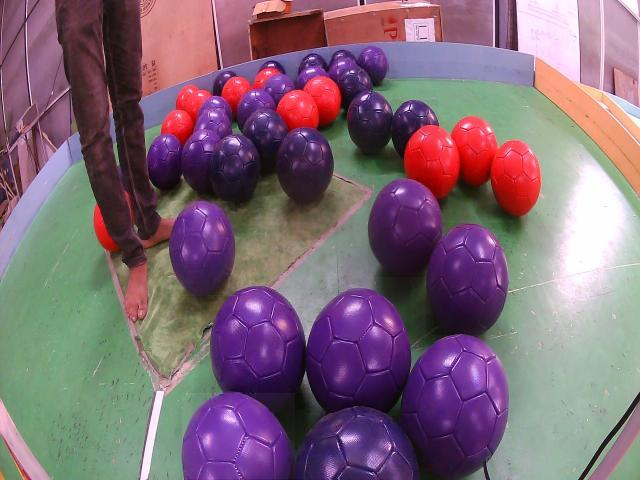jambhalya: (401, 335, 509, 478), (306, 289, 411, 413), (210, 286, 305, 410), (183, 394, 295, 480), (426, 224, 509, 335), (368, 178, 442, 277), (170, 201, 235, 296), (181, 130, 220, 193), (148, 134, 182, 190), (237, 90, 275, 131), (194, 110, 232, 140), (358, 46, 388, 84), (263, 73, 295, 107), (197, 96, 232, 121), (297, 65, 327, 90), (329, 57, 356, 83)
kaalyya: (294, 406, 418, 479), (276, 127, 334, 203), (209, 134, 261, 203), (243, 110, 289, 173), (391, 100, 439, 158), (348, 92, 392, 153), (338, 66, 372, 111), (213, 71, 236, 96), (298, 54, 328, 73), (330, 49, 358, 64), (260, 60, 285, 75)
